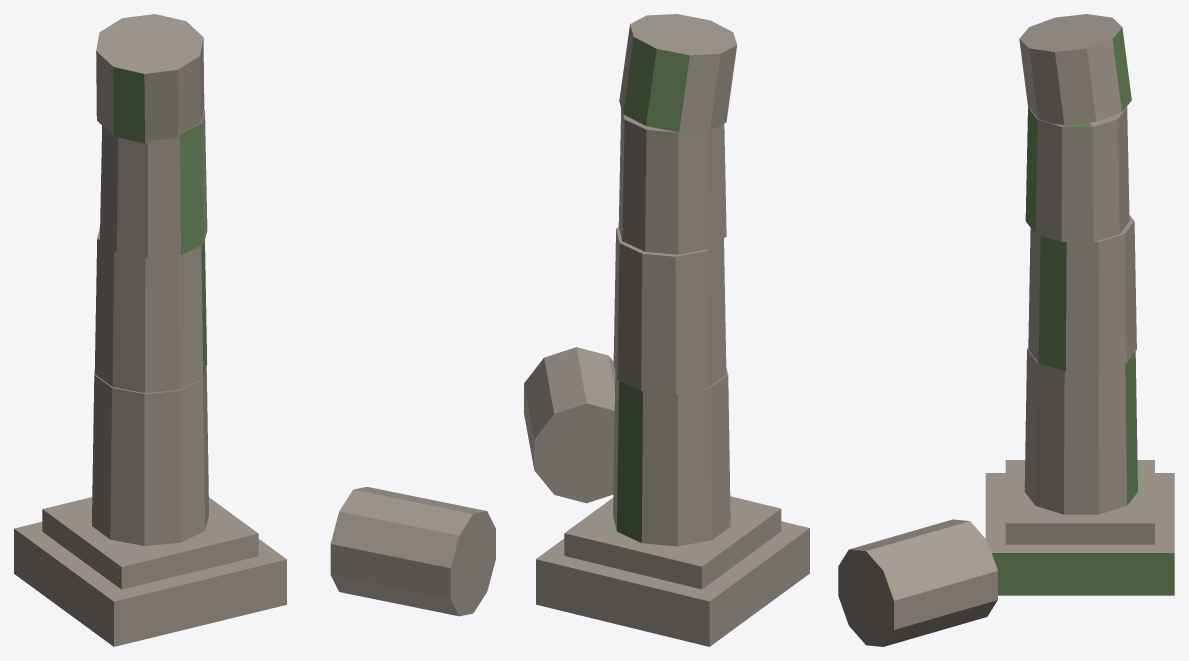
The model's file is ruin_column.glb.
The picture shows the model from 3 angles, left to right: view 1: azimuth 30°, elevation 25°; view 2: azimuth 150°, elevation 25°; view 3: azimuth 270°, elevation 25°; orthographic projection. The views are drawn at different scales.
Parts seen in each view (by area): view 1: ruin_column; view 2: ruin_column; view 3: ruin_column.
Part boxes in pixels (bbox=[...]): ruin_column: bbox=[14, 14, 495, 646]; ruin_column: bbox=[524, 14, 809, 646]; ruin_column: bbox=[838, 14, 1174, 646].
Bounding box in the file's own units: 2.31 × 3.69 × 2.14.
